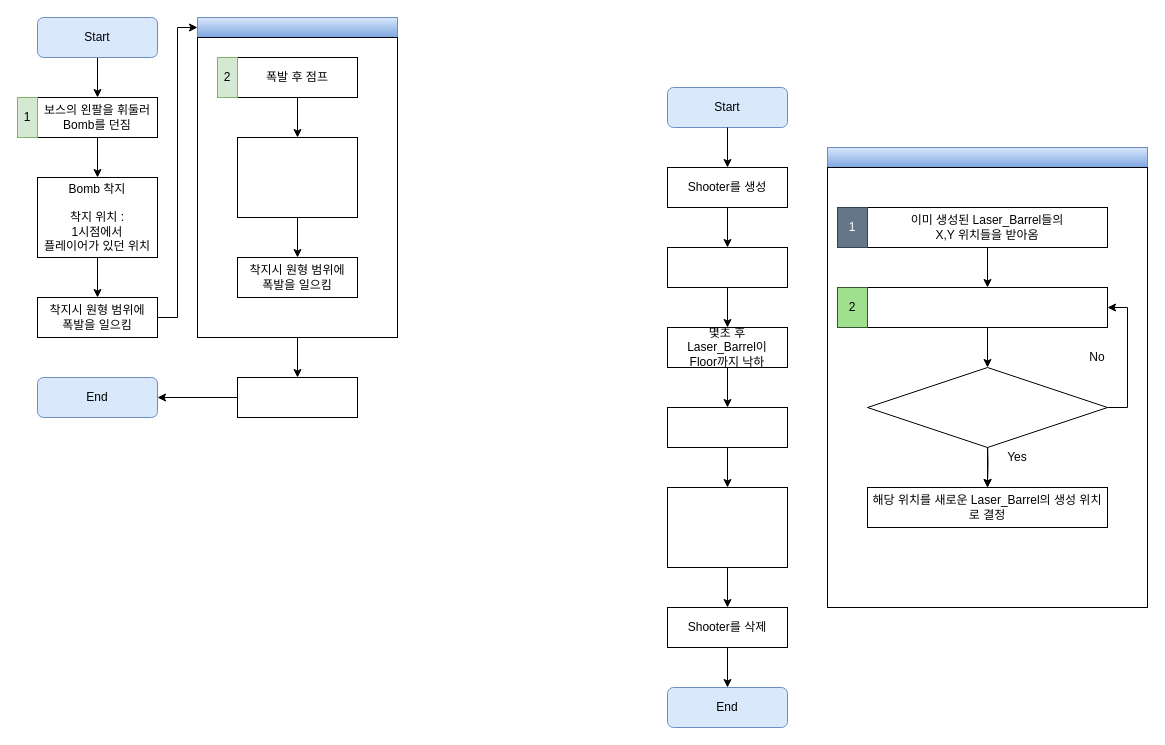
Some shapes in this 1165 by 745 pixel diagram are drawn without their labels. Each missing label, with the box of its shape:
1의 모든 값들에 대하여 2의 X,Y 값과 일정이상의 거리를 가지고 있는가?: (866, 366, 1108, 448)
Bomb 착지 착지 위치 : 2시점에서 플레이어가 있던 위치: (236, 136, 358, 218)
Laser_Barrel 생성 위치: (826, 146, 1148, 168)
Laser_Barrel 을 생성: (666, 246, 788, 288)
Laser_Barrel_Spawn의 랜덤한 위치값을 받아옴: (866, 286, 1108, 328)
n회 반복: (196, 16, 398, 38)
몇초 후 모든 Laser_Barrel의 Laser Off: (666, 486, 788, 568)
모든 Laser_Barrel의 Laser On: (666, 406, 788, 448)
폭탄 제거: (236, 376, 358, 418)
